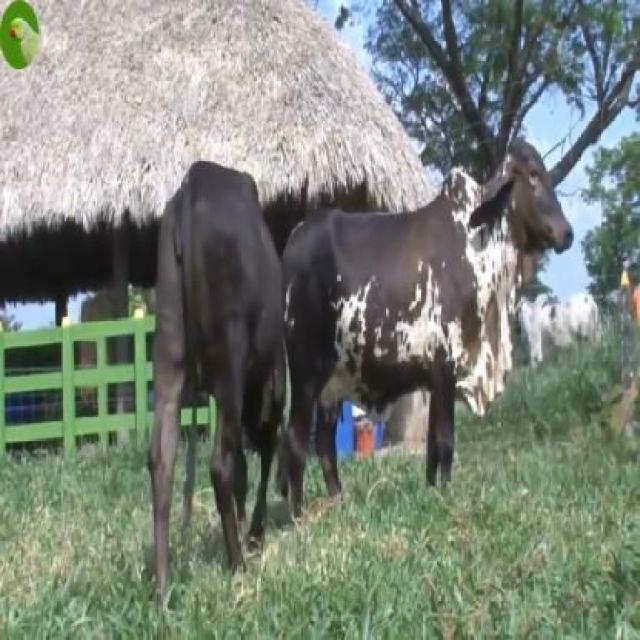Cow: (281, 138, 574, 532)
